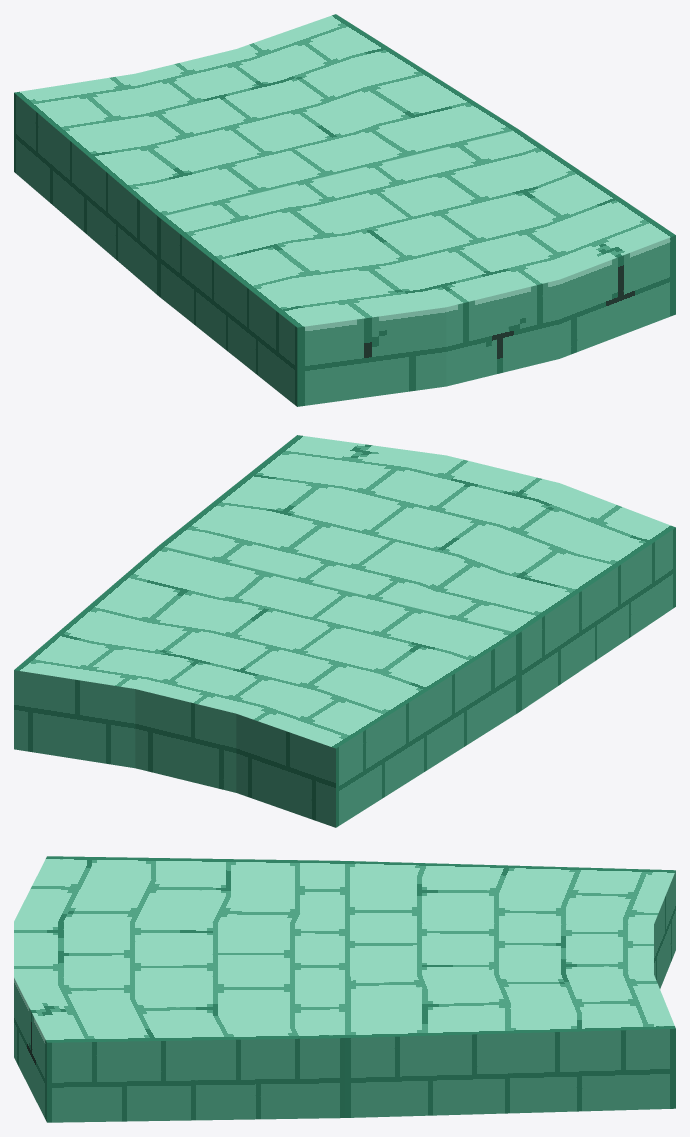
The model's file is spookyjam_platform_wide_moving.gltf.
3 views of the same model, one above another, from view 1: azimuth 30°, elevation 25°; view 2: azimuth 150°, elevation 25°; view 3: azimuth 270°, elevation 25° (orthographic).
Visible parts, largest first — view 1: pillarbottomWIDE; view 2: pillarbottomWIDE; view 3: pillarbottomWIDE.
Part boxes in pixels (box(x1,y1,x2,y2)): pillarbottomWIDE: box(14, 14, 675, 406); pillarbottomWIDE: box(14, 435, 675, 827); pillarbottomWIDE: box(14, 856, 675, 1122).
Size of the model in its own units: 2.5 by 0.5 by 3.75.
Materials: 1 (1 with a texture image).
